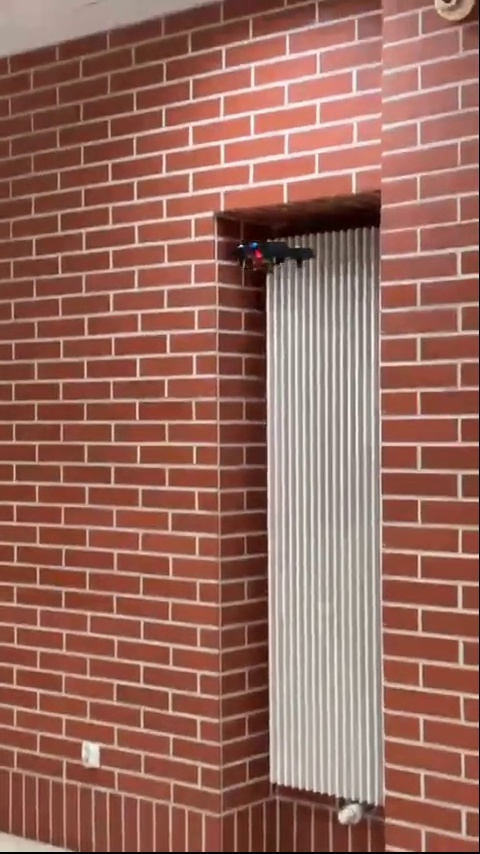drone: (225, 229, 326, 271)
